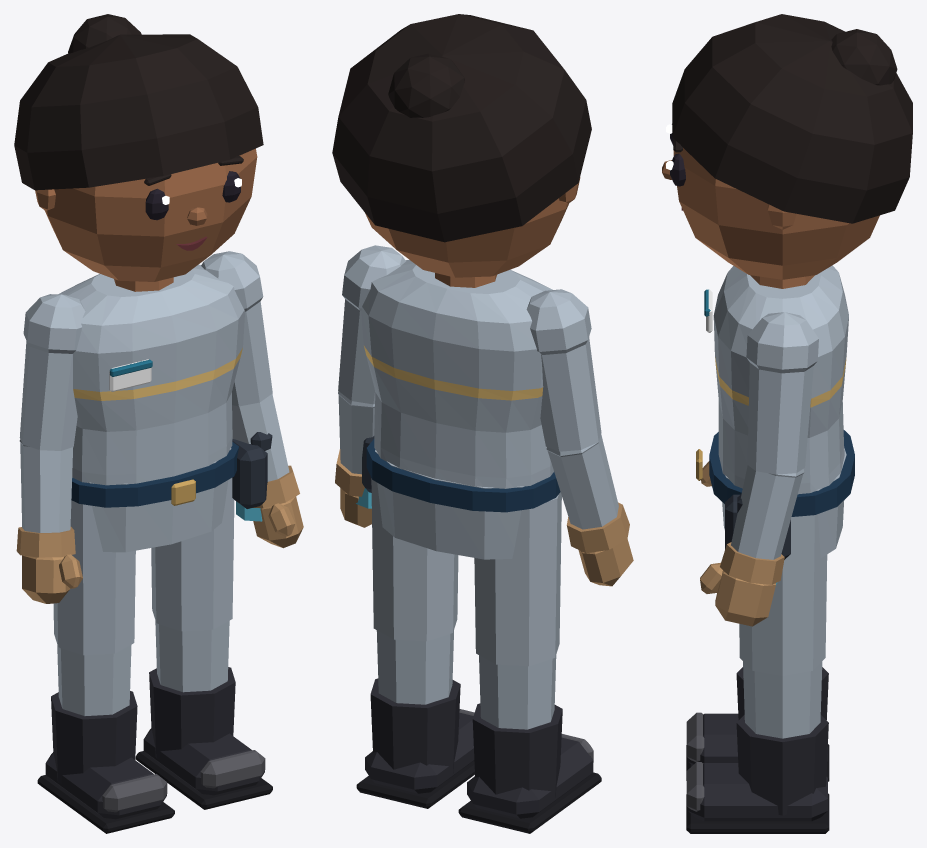
Rendered from rei_rin.glb.
The picture shows the model from 3 angles, left to right: view 1: azimuth 30°, elevation 25°; view 2: azimuth 150°, elevation 25°; view 3: azimuth 270°, elevation 25°; orthographic projection. The views are drawn at different scales.
Visible parts, largest first — view 1: haare, torso, kopf, arm_r, bein_r, bein_l, schuh_r, schuh_l, arm_l, becken, gürtel, accessoire_sprayholster (+4 smaller); view 2: haare, torso, bein_r, arm_r, bein_l, schuh_r, schuh_l, arm_l, kopf, becken, gürtel, hand_r (+3 smaller); view 3: haare, torso, arm_l, bein_l, schuh_l, kopf, schuh_r, gürtel, hand_l, becken, accessoire_sprayholster, gesicht (+1 smaller).
Part boxes in pixels (x1,y1,x2,y2): haare: (14, 14, 263, 190); torso: (58, 264, 244, 485); kopf: (35, 148, 257, 281); arm_r: (16, 294, 85, 557); bein_r: (53, 500, 135, 715); bein_l: (151, 478, 234, 692); schuh_r: (37, 691, 174, 833); schuh_l: (135, 667, 272, 809); arm_l: (201, 251, 299, 508); becken: (88, 448, 231, 552); gürtel: (71, 442, 238, 507); accessoire_sprayholster: (232, 432, 272, 521); haare: (332, 14, 591, 242); torso: (361, 259, 553, 488); bein_r: (474, 492, 561, 729); arm_r: (526, 289, 629, 553); bein_l: (371, 478, 458, 704); schuh_r: (458, 703, 601, 833); schuh_l: (356, 678, 474, 808); arm_l: (335, 245, 405, 496); kopf: (365, 177, 580, 277); becken: (375, 450, 524, 559); gürtel: (366, 439, 560, 512); hand_r: (578, 538, 633, 586); haare: (672, 14, 912, 223); torso: (713, 265, 848, 494); arm_l: (720, 312, 818, 584); bein_l: (739, 514, 827, 738); schuh_l: (686, 714, 829, 833); kopf: (673, 148, 879, 279); schuh_r: (686, 667, 829, 781); gürtel: (696, 430, 854, 516); hand_l: (700, 562, 775, 626); becken: (722, 448, 846, 557); accessoire_sprayholster: (725, 494, 790, 584); gesicht: (662, 124, 685, 210).
Size of the model in its own units: 0.00962 by 0.0244 by 0.0073.
